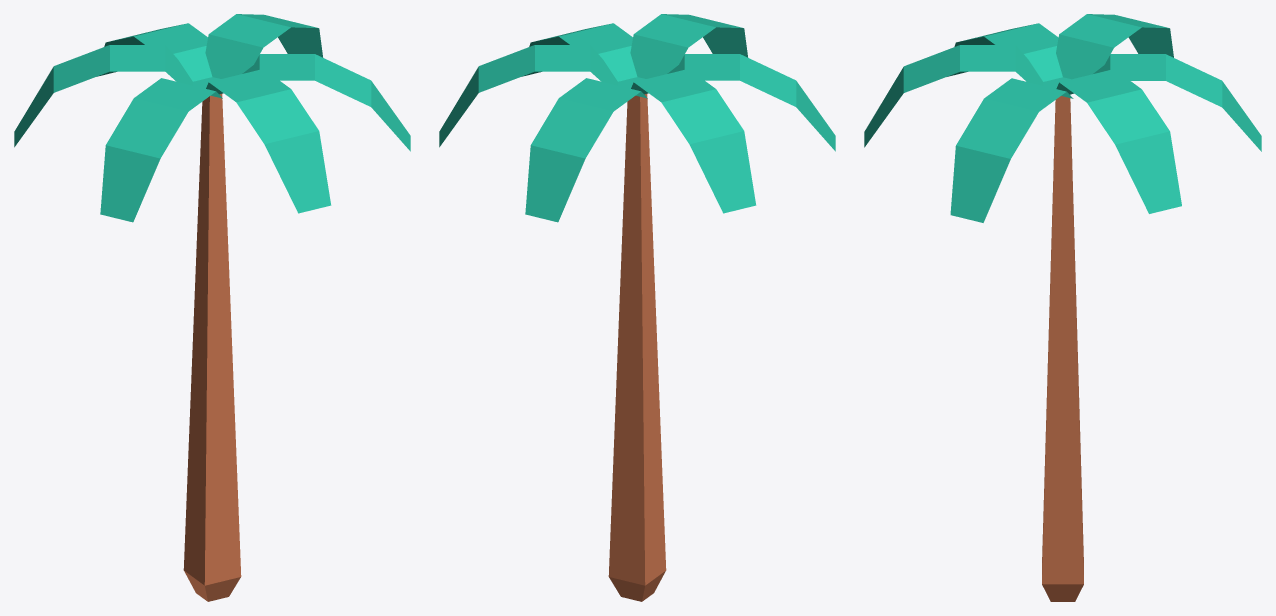
File: tree_palm.obj
3 views of the same model, side by side, from view 1: azimuth 30°, elevation 25°; view 2: azimuth 150°, elevation 25°; view 3: azimuth 270°, elevation 25° (orthographic).
Size of the model in its own units: 0.9355 by 1.51 by 1.01.
